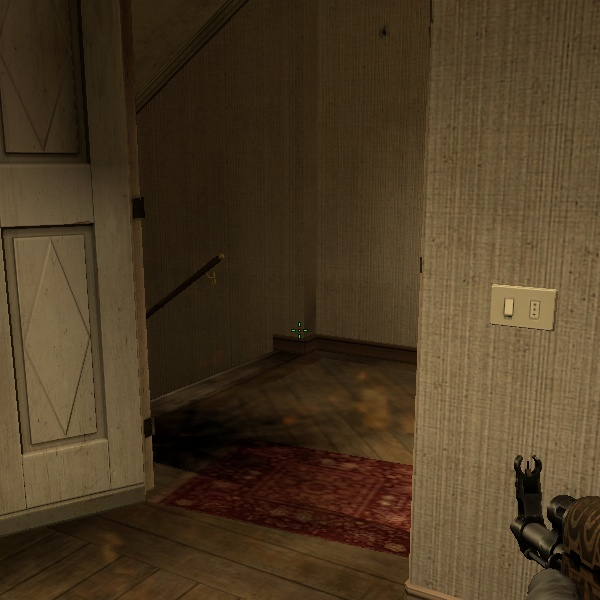t_body: (510, 453, 600, 599)
